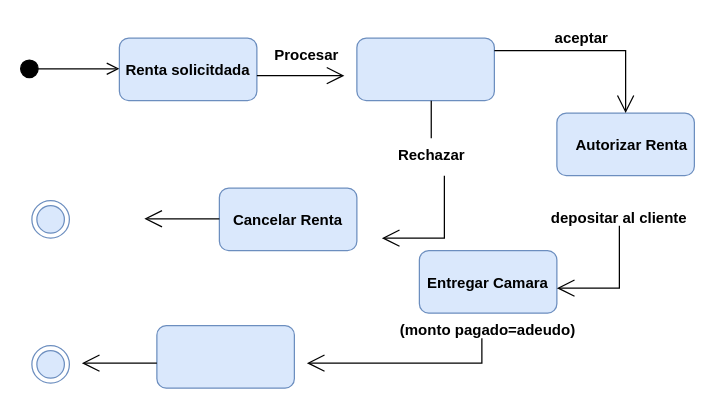
The diagram is 715 pixels wide and 409 high, and some of its shapes have lost their labels. Each missing label, with the centre of its shape:
"En Revision" goes at point 425,69.
"Pagado" goes at point 225,356.
